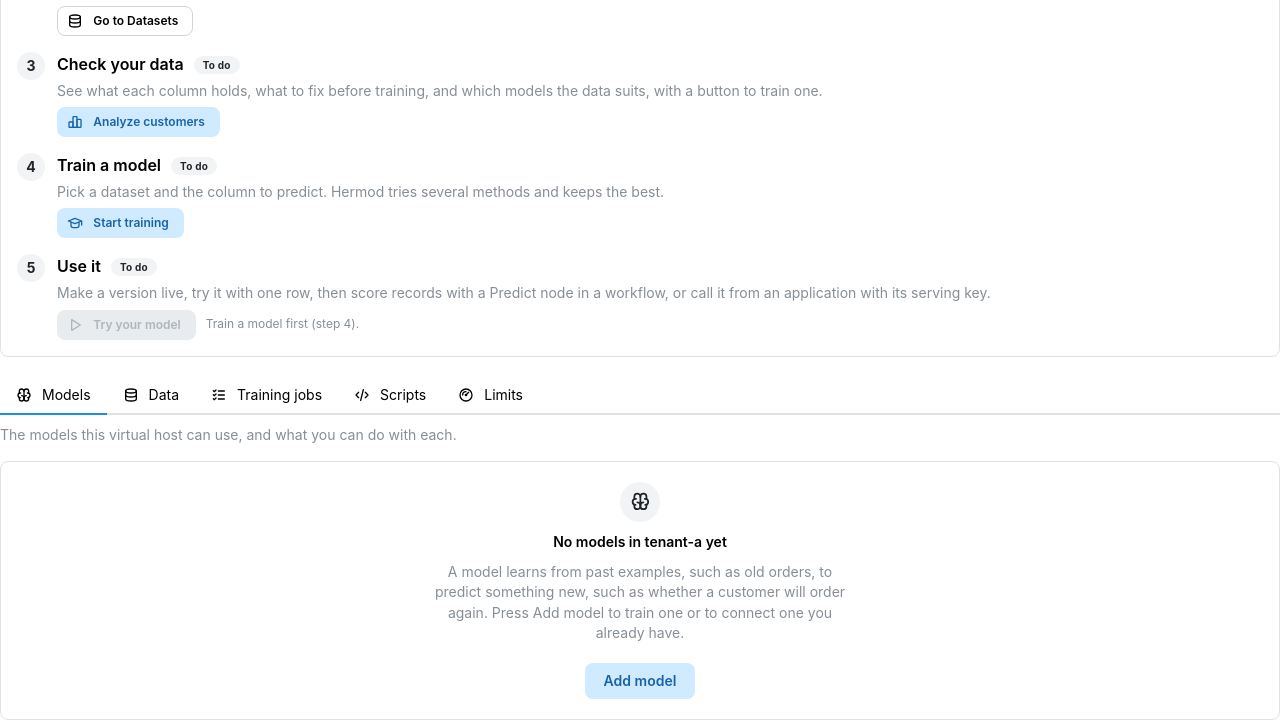
Test: Custom training scripts on the Models page › says scripts are saved but cannot train until the pool exists
The image size is (1280, 720).
(page scrolled)
Click the tab "Scripts": (390, 396) top-left (338, 376), bottom-right (442, 414)
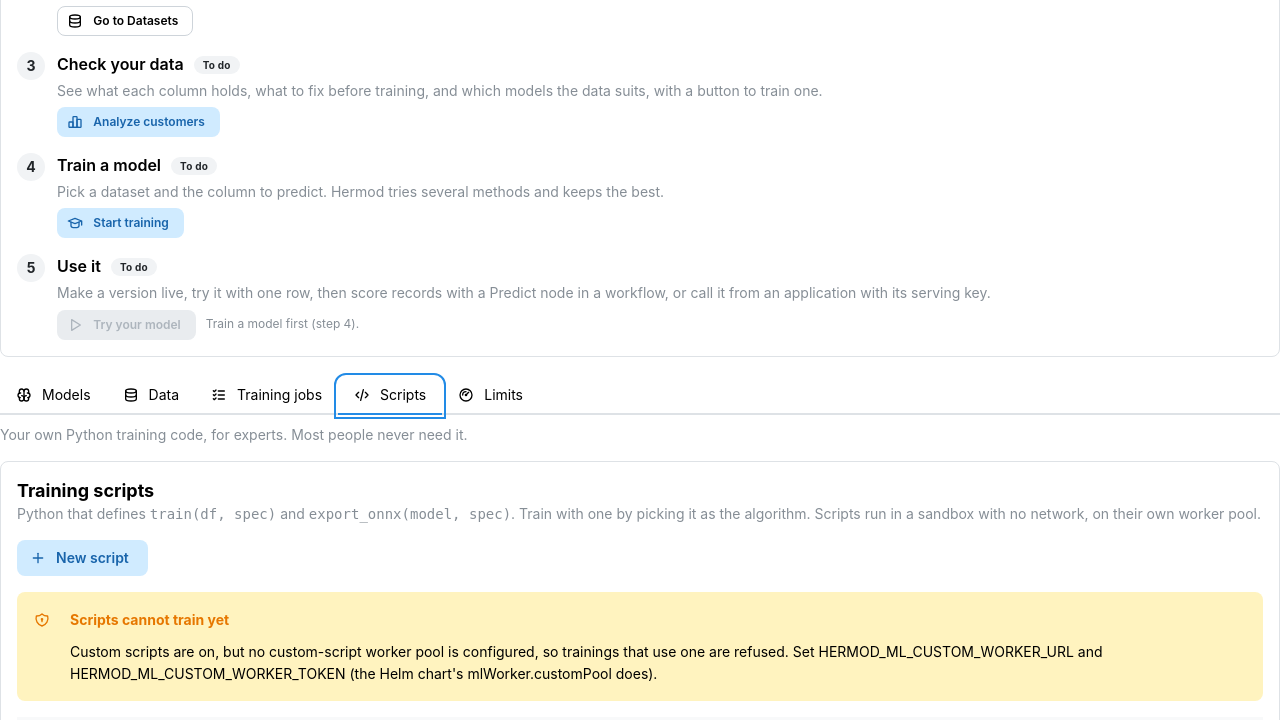
Now the text "HERMOD_ML_CUSTOM_WORKER_URL" is shown, box top-left (70, 643), bottom-right (1102, 682)
